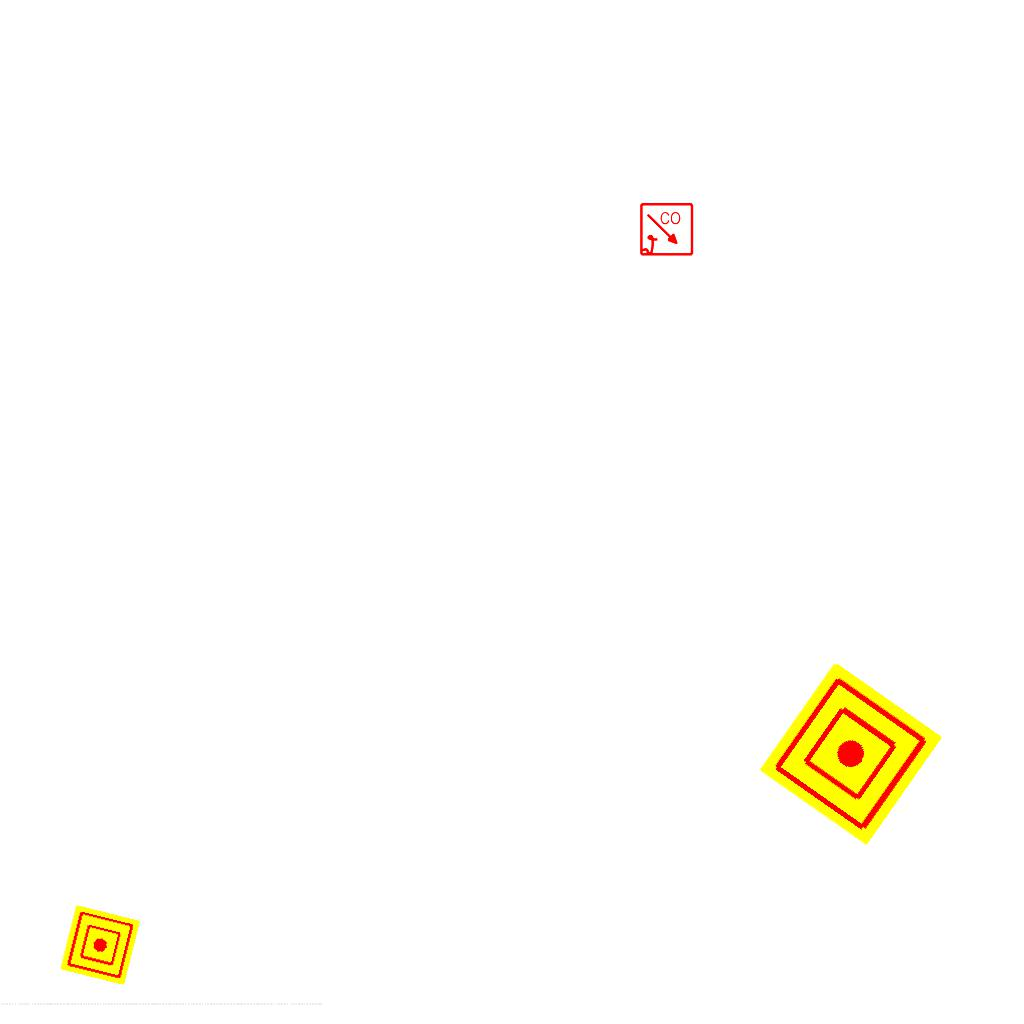NAM-Nichtautomatischer_Melder: (759, 662, 943, 846), (59, 904, 141, 986)
ROA_Rauchmelder_optisch_mit_Signalgeber_(Sockelsirene): (639, 202, 695, 258)
